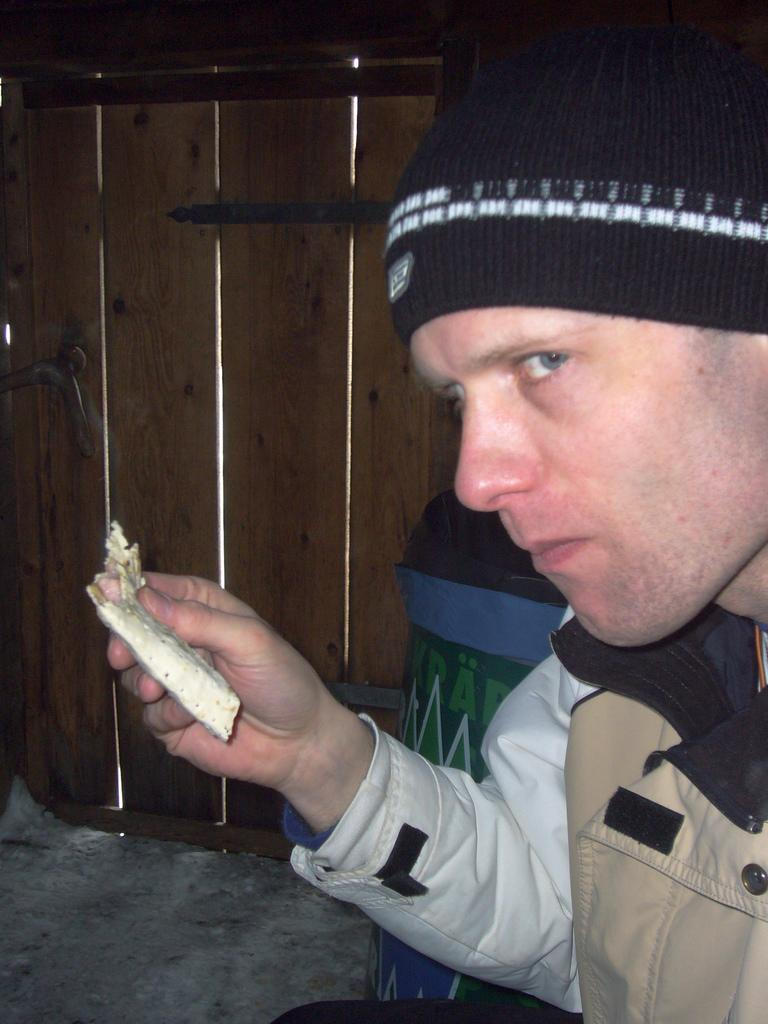Sem Máscara: (401, 275, 765, 650)
